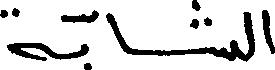X: (0, 3, 48, 65), (209, 14, 233, 65), (110, 9, 128, 58), (264, 5, 274, 58), (245, 0, 252, 69), (80, 9, 87, 69)
